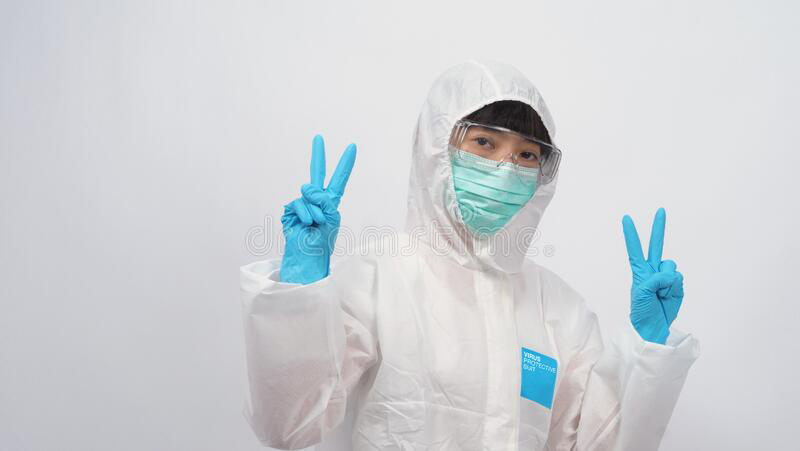Coverall: (233, 60, 697, 451)
Gloves: (276, 133, 358, 283), (620, 207, 684, 344)
Goggles: (453, 120, 563, 187)
with_mask: (449, 135, 548, 229)
